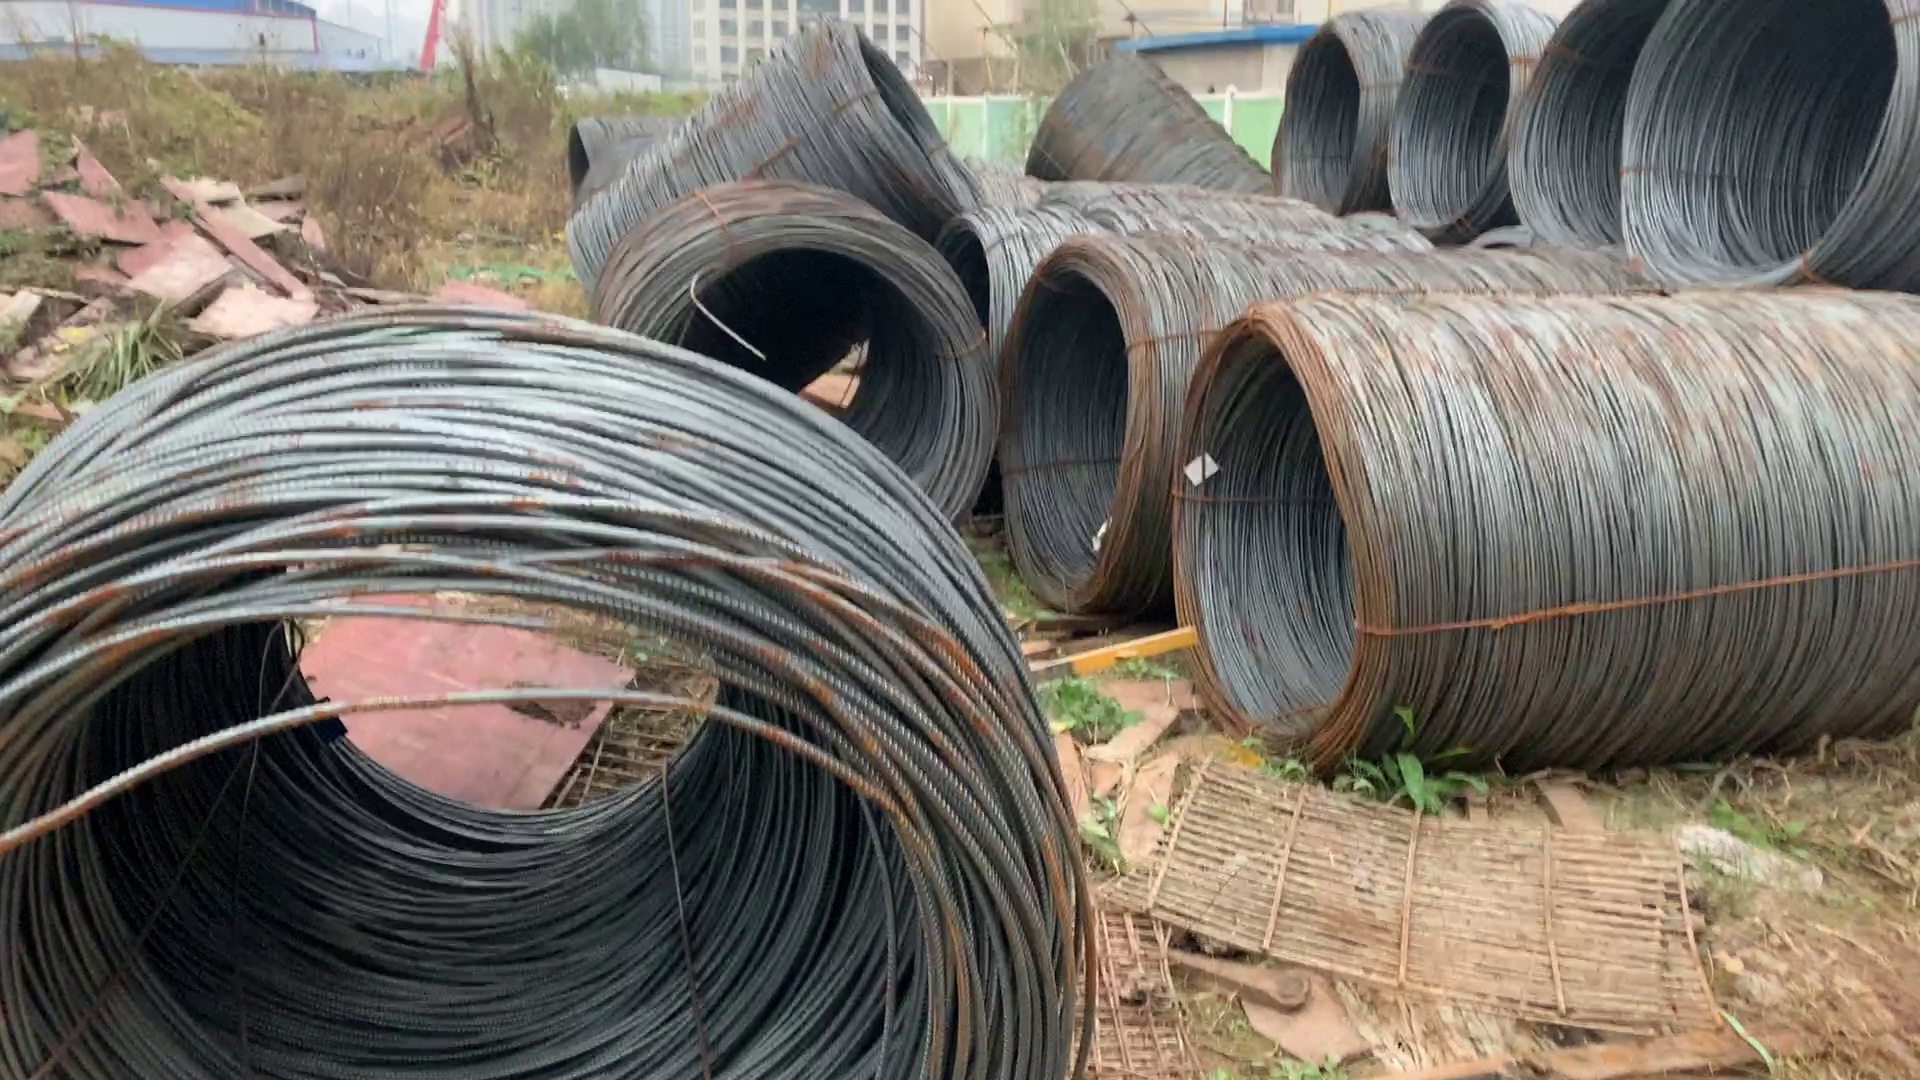coil: (3, 418, 1080, 1080), (599, 222, 993, 574), (1164, 316, 1390, 771), (1633, 1, 1904, 293), (990, 241, 1156, 644), (1516, 1, 1658, 266), (840, 16, 990, 243), (1389, 1, 1518, 243), (1271, 11, 1371, 224), (553, 117, 604, 189)
